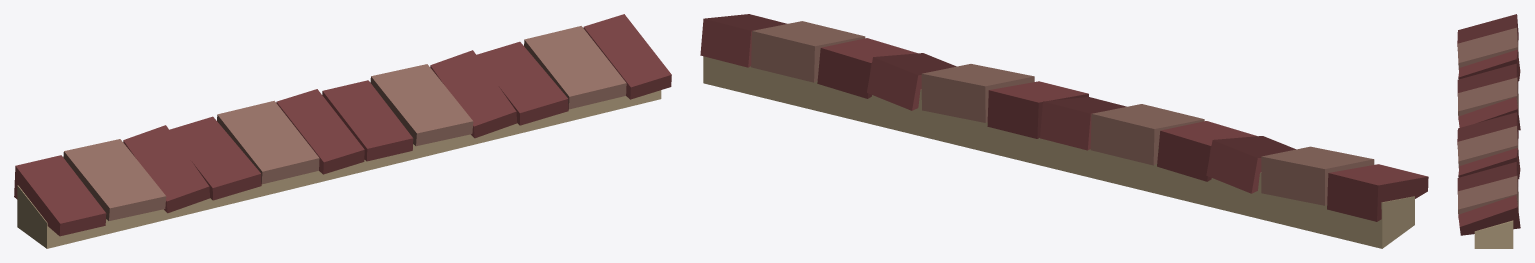
Rendered from DarkSandStoneDecorationLargeTiledTopper1.fbx.
The picture shows the model from 3 angles, left to right: view 1: azimuth 30°, elevation 25°; view 2: azimuth 150°, elevation 25°; view 3: azimuth 270°, elevation 25°; orthographic projection. The views are drawn at different scales.
Parts seen in each view (by area): view 1: DarkSandStoneDecorationLargeTiledTopper1; view 2: DarkSandStoneDecorationLargeTiledTopper1; view 3: DarkSandStoneDecorationLargeTiledTopper1.
Boxes of the visible parts, left/top/right/bottom form: DarkSandStoneDecorationLargeTiledTopper1: left=14, top=14, right=671, bottom=248; DarkSandStoneDecorationLargeTiledTopper1: left=700, top=14, right=1428, bottom=248; DarkSandStoneDecorationLargeTiledTopper1: left=1457, top=14, right=1520, bottom=248.
Size of the model in its own units: 1200 by 119 by 164.
Materials: 3 (3 with a texture image).
